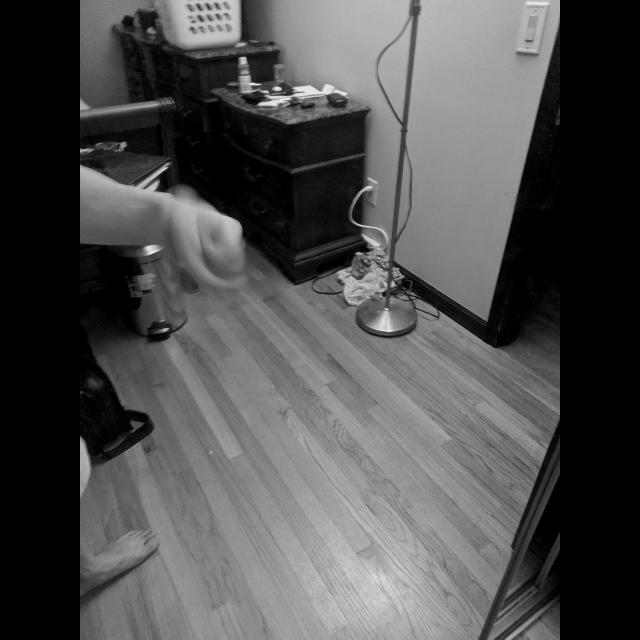J: (142, 177, 266, 345)
